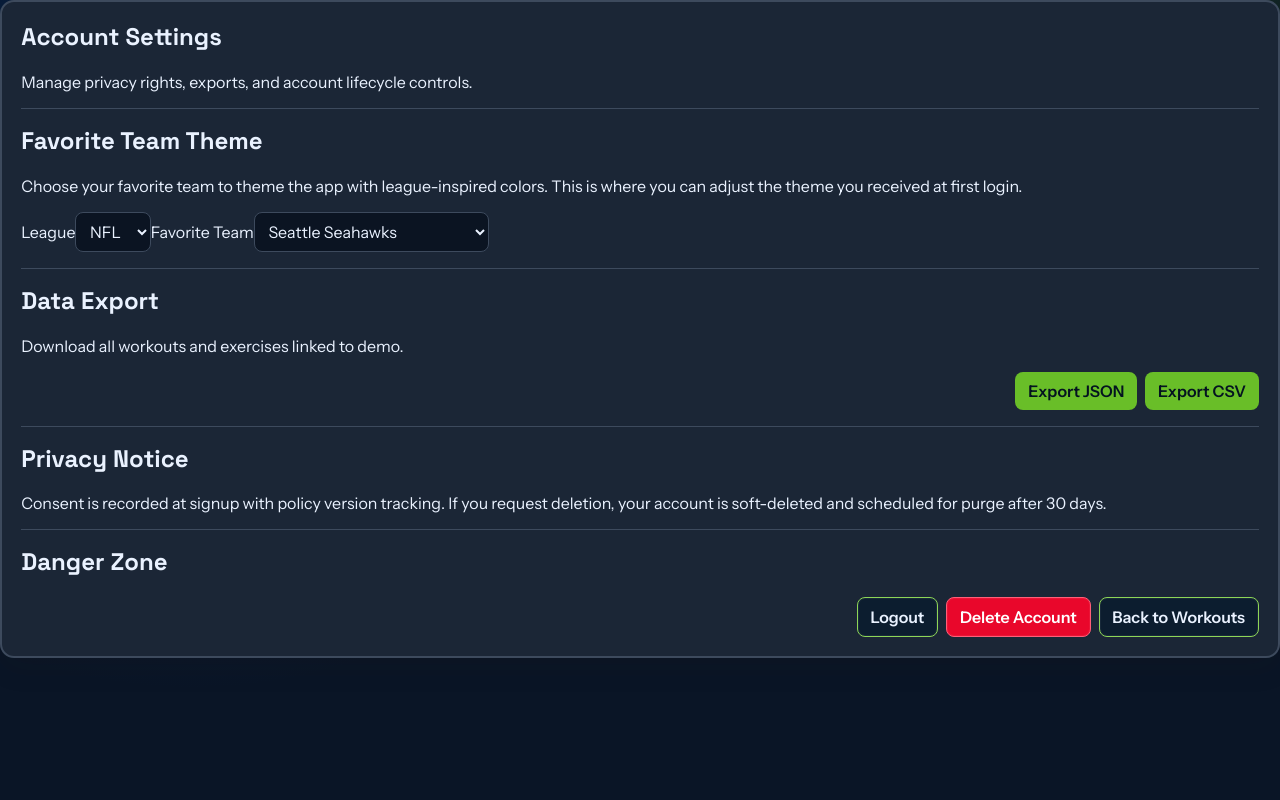
Test: AccountSettingsPage › exports JSON data
What coordinates should you click on to do the following:
click the button "Export JSON"
I would click on:
 (1076, 391)
Its box is [1016,372,1137,410].
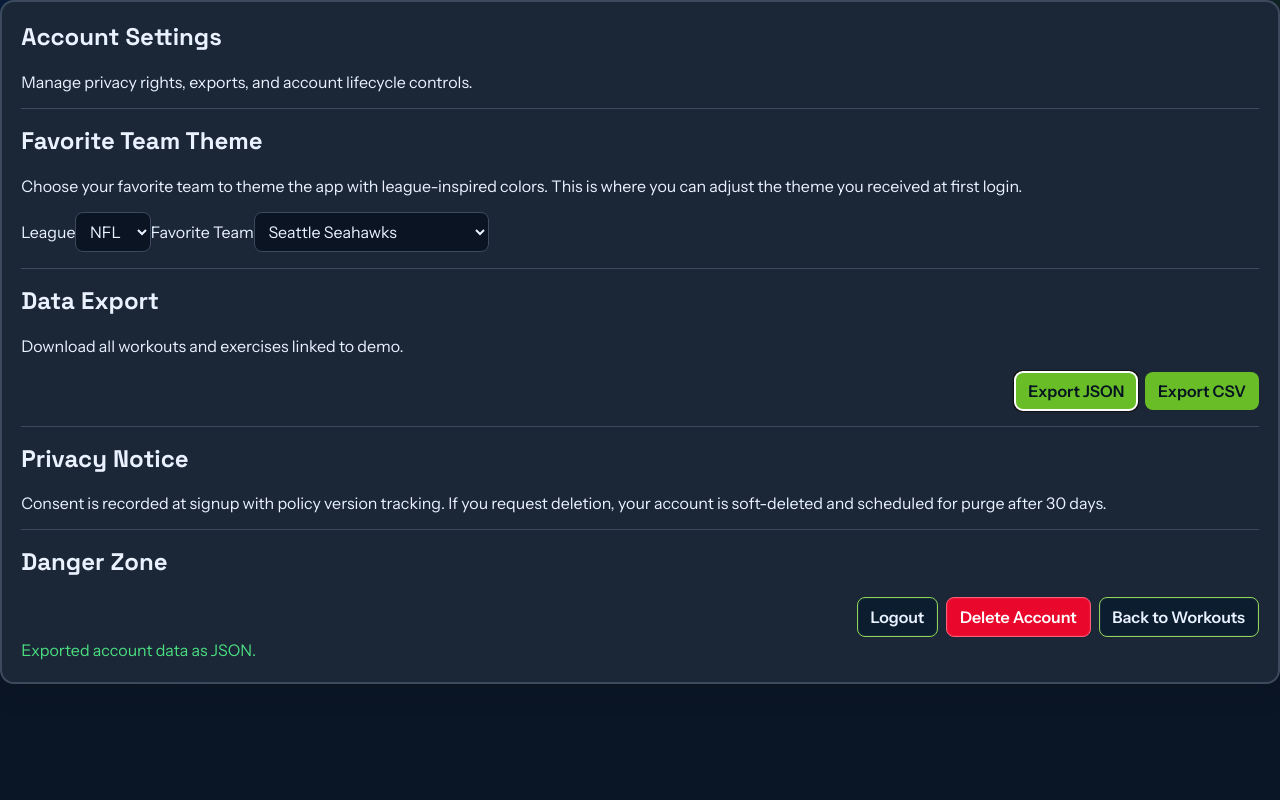
Expected: the text "Exported account data as JSON." is shown, [21,640,256,660]
